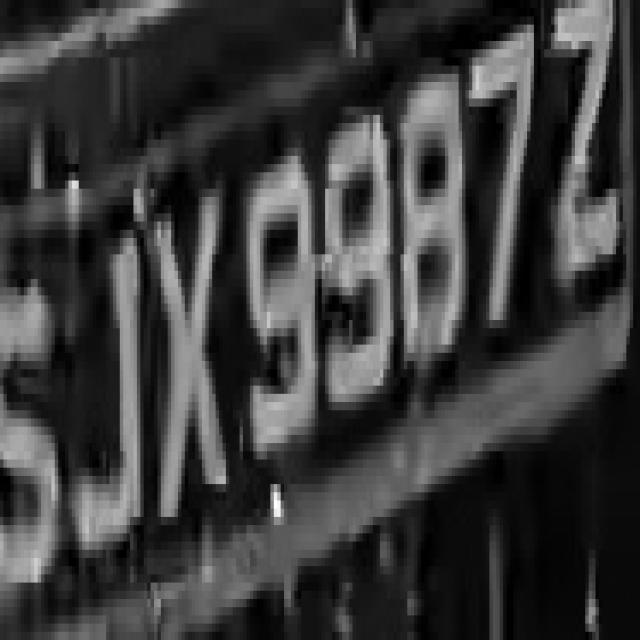7: (451, 0, 544, 336)
8: (383, 25, 469, 402)
9: (305, 99, 407, 443), (226, 148, 322, 484)
J: (62, 189, 147, 558)
S: (0, 222, 72, 599)
X: (140, 180, 247, 542)
Z: (540, 8, 630, 304)
